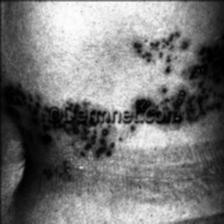Toxin: (1, 78, 48, 146), (130, 29, 186, 77), (53, 123, 115, 166), (132, 90, 224, 114), (192, 35, 224, 84)
